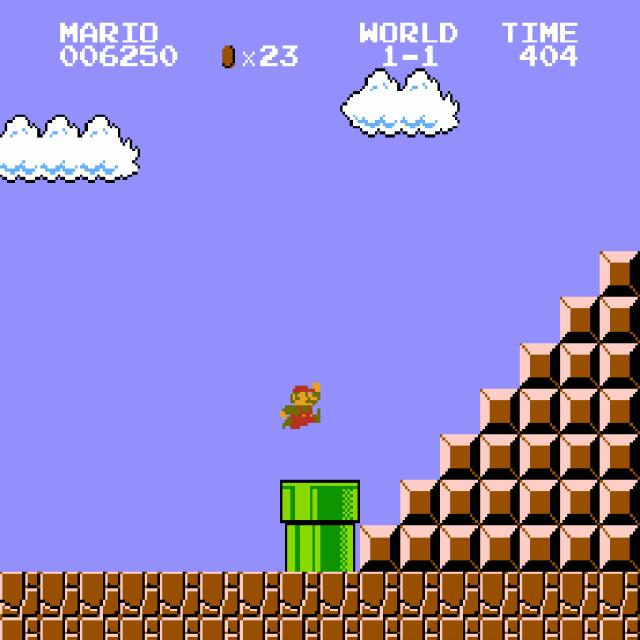hard_block: (599, 251, 640, 297), (599, 342, 640, 388), (599, 388, 640, 434), (599, 525, 640, 571), (599, 297, 640, 342), (599, 434, 640, 479), (599, 480, 640, 525), (400, 480, 440, 526), (440, 434, 480, 480), (440, 480, 480, 526), (480, 434, 520, 480), (480, 480, 520, 526), (520, 434, 560, 480), (520, 480, 560, 526), (560, 297, 600, 343), (560, 434, 600, 480), (560, 480, 600, 526), (360, 526, 400, 571), (400, 526, 440, 571), (440, 526, 480, 571), (480, 389, 520, 434), (480, 526, 520, 571), (520, 343, 560, 388), (520, 389, 560, 434), (520, 526, 560, 571), (560, 343, 600, 388), (560, 389, 600, 434), (560, 526, 600, 571)
little_mario: (277, 380, 320, 429)
pipe: (280, 526, 320, 571), (320, 526, 360, 571)
pipe_head: (280, 480, 320, 526), (320, 480, 360, 526)
undestructible_block: (599, 571, 640, 617), (0, 571, 40, 617), (40, 572, 80, 617), (80, 572, 120, 617), (120, 572, 160, 617), (160, 572, 200, 617), (200, 572, 240, 617), (240, 572, 280, 617), (280, 572, 320, 617), (320, 572, 360, 617), (360, 572, 400, 617), (400, 572, 440, 617), (440, 572, 480, 617), (480, 572, 520, 617), (520, 572, 560, 617), (560, 572, 600, 617), (40, 617, 80, 640), (80, 617, 120, 640), (120, 617, 160, 640), (160, 617, 200, 640), (200, 617, 240, 640), (240, 617, 280, 640), (280, 617, 320, 640), (320, 617, 360, 640), (360, 617, 400, 640), (400, 617, 440, 640), (440, 617, 480, 640), (480, 617, 520, 640), (520, 617, 560, 640), (560, 617, 600, 640), (599, 617, 640, 639), (0, 617, 40, 639)
